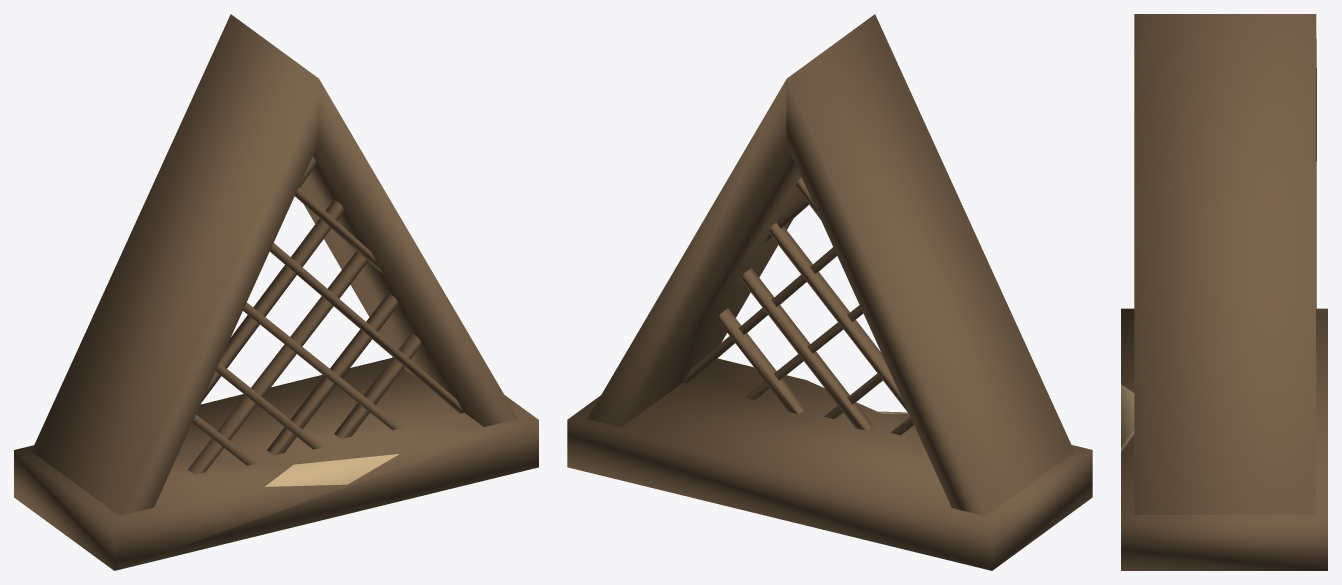
Rendered from rpgpp_ag_window_05c.fbx.
3 views of the same model, side by side, from view 1: azimuth 30°, elevation 25°; view 2: azimuth 150°, elevation 25°; view 3: azimuth 270°, elevation 25° (orthographic). The views are drawn at different scales.
Parts seen in each view (by area): view 1: rpgpp_ag_window_05c; view 2: rpgpp_ag_window_05c; view 3: rpgpp_ag_window_05c.
Boxes of the visible parts, <box> form: rpgpp_ag_window_05c: <box>14,14,538,570</box>; rpgpp_ag_window_05c: <box>567,14,1092,570</box>; rpgpp_ag_window_05c: <box>1121,14,1327,570</box>.
Bounding box in the file's own units: 1.38 × 1.35 × 0.5651.
